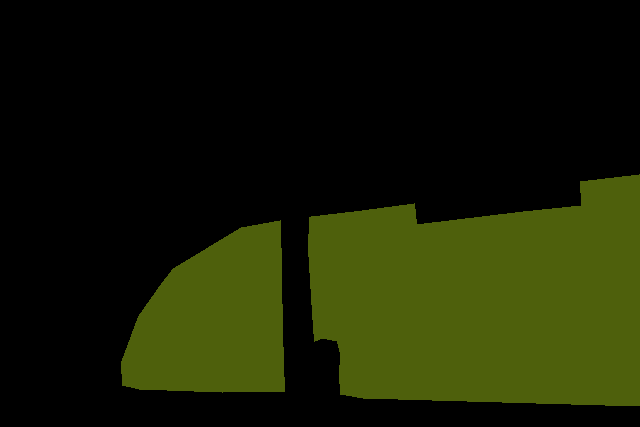Train: (121, 174, 640, 406)
